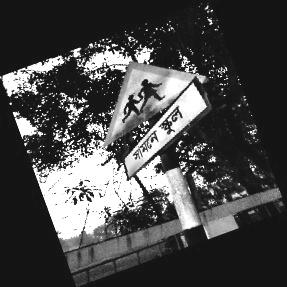School-in-front: (102, 62, 212, 188)
